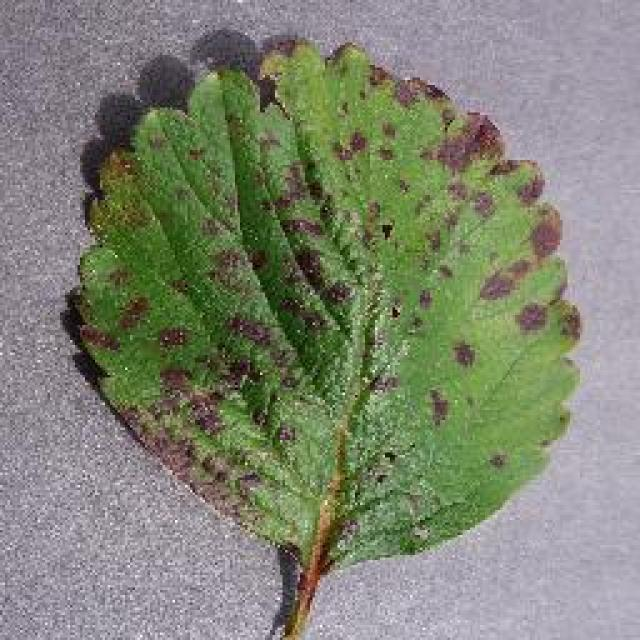Strawberry leaf scorch: (130, 121, 482, 472)
